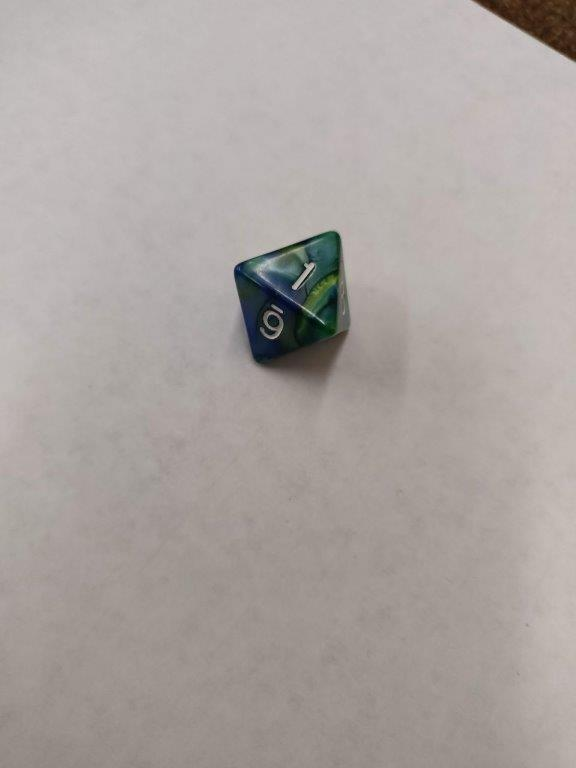d8-1: (232, 231, 352, 365)
